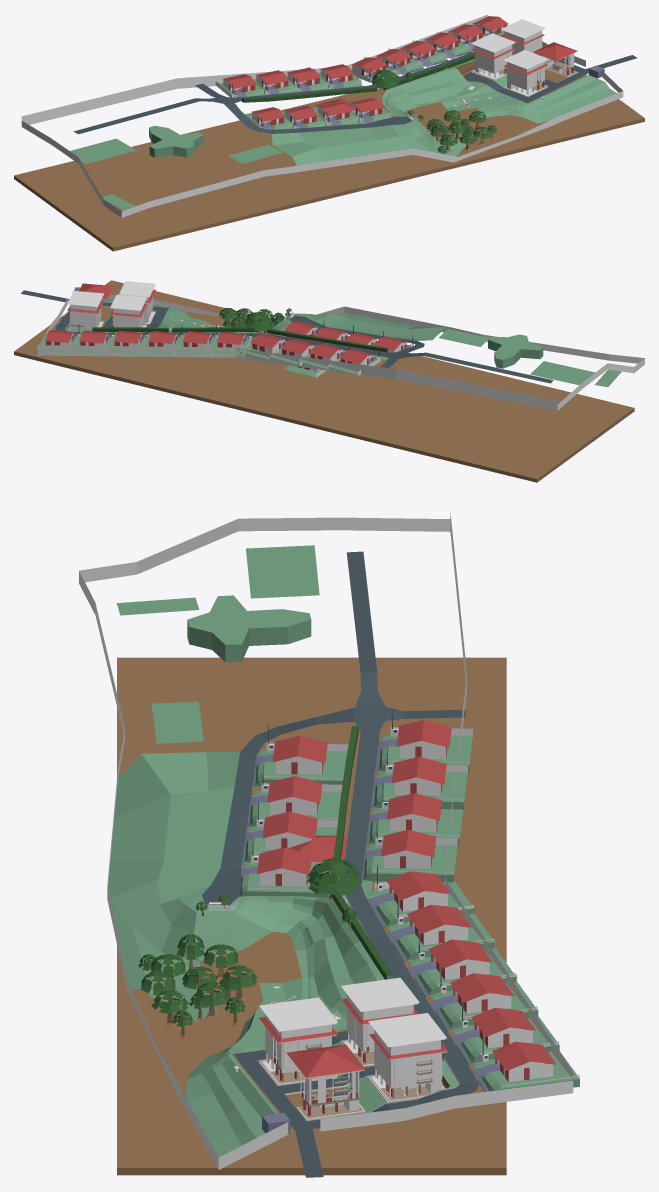
3 views of the same model, one above another, from view 1: azimuth 30°, elevation 25°; view 2: azimuth 150°, elevation 25°; view 3: azimuth 270°, elevation 25° (orthographic). The views are drawn at different scales.
Parts seen in each view (by area): view 1: Length-310m, grama, muro, rua, clube, Plane.004, Plane.003, cerca-viva, Plane.001, preio-telhado, Plane.006; view 2: Length-310m, muro, grama, clube, rua, cerca-viva, Plane.001, Plane.004, Plane.003, Plane.006, preio-telhado; view 3: Length-310m, grama, cerca-casa (×13), rua, roof (×14), muro, clube, Plane.001, Plane.003, Plane.004, cerca-viva, preio-telhado (+1 smaller).
Boxes of the visible parts, bbox=[...] form: Length-310m: bbox=[14, 69, 644, 251]; grama: bbox=[271, 59, 616, 165]; muro: bbox=[21, 14, 623, 217]; rua: bbox=[73, 52, 636, 134]; clube: bbox=[70, 125, 282, 210]; Plane.004: bbox=[471, 33, 515, 80]; Plane.003: bbox=[504, 50, 547, 96]; cerca-viva: bbox=[241, 54, 474, 102]; Plane.001: bbox=[501, 19, 545, 57]; preio-telhado: bbox=[533, 42, 577, 61]; Plane.006: bbox=[371, 69, 399, 91]; Length-310m: bbox=[14, 280, 634, 482]; muro: bbox=[37, 291, 644, 410]; grama: bbox=[65, 298, 447, 340]; clube: bbox=[438, 329, 621, 387]; rua: bbox=[20, 290, 553, 383]; cerca-viva: bbox=[92, 327, 388, 352]; Plane.001: bbox=[67, 291, 104, 329]; Plane.004: bbox=[110, 294, 147, 327]; Plane.003: bbox=[119, 281, 155, 324]; Plane.006: bbox=[244, 312, 271, 332]; preio-telhado: bbox=[79, 283, 113, 299]; Length-310m: bbox=[117, 657, 506, 1175]; grama: bbox=[108, 751, 458, 1157]; cerca-casa (×13): bbox=[239, 734, 579, 1091]; rua: bbox=[202, 551, 478, 1177]; roof (×14): bbox=[257, 720, 556, 1070]; muro: bbox=[79, 512, 573, 1169]; clube: bbox=[116, 545, 319, 743]; Plane.001: bbox=[368, 1013, 446, 1102]; Plane.003: bbox=[259, 997, 337, 1085]; Plane.004: bbox=[341, 977, 419, 1065]; cerca-viva: bbox=[330, 725, 443, 1060]; preio-telhado: bbox=[286, 1044, 365, 1078].
Bounding box in the file's own units: 338 × 41.7 × 129.
